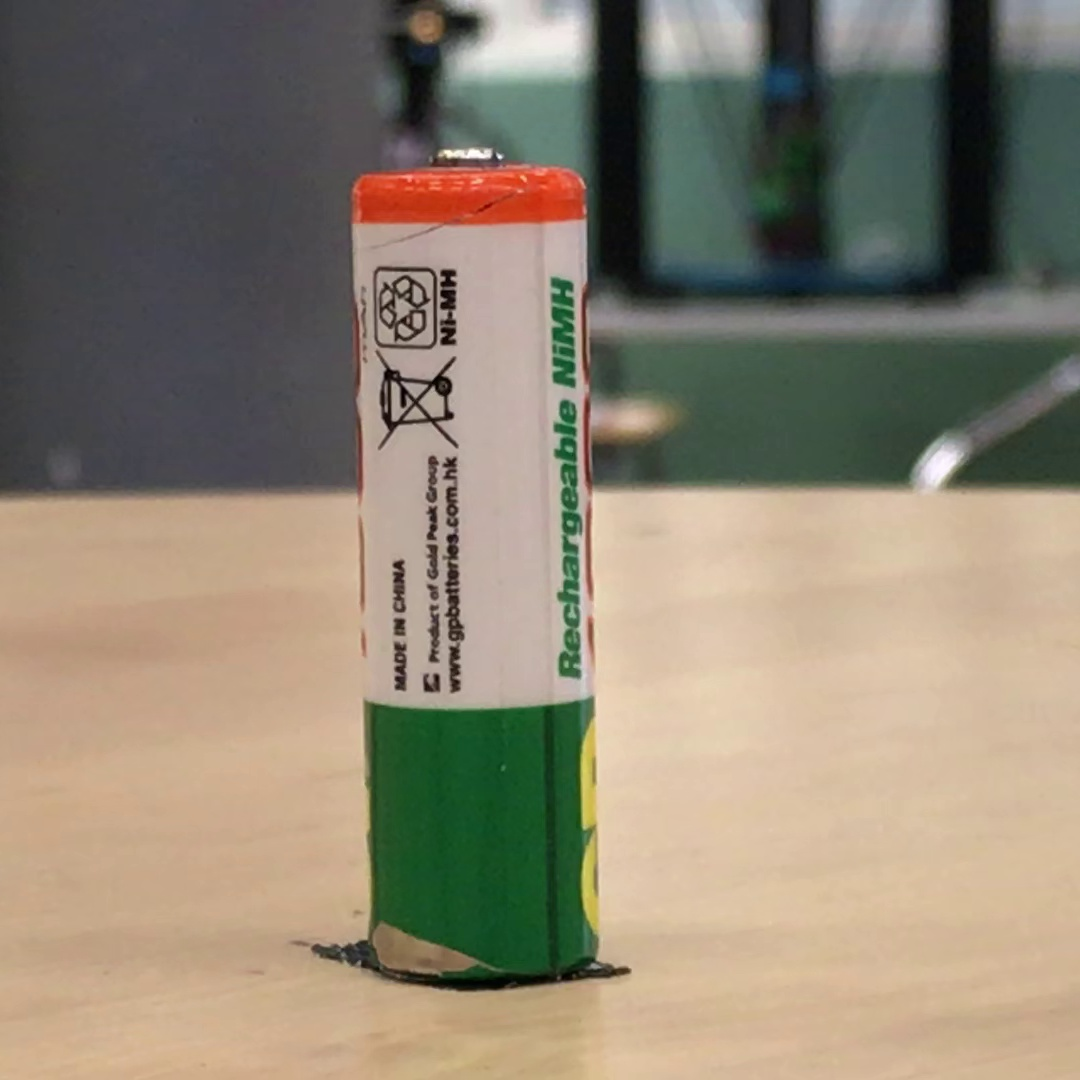keyword: (541, 268, 586, 398)
